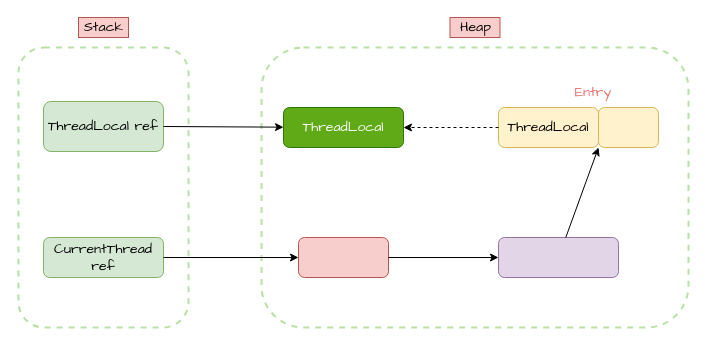
The diagram is 706 pixels wide and 346 high, and some of its shapes have lost their labels. The shapes that lost their labels are listed below. From the top down, each one's box as (x1, y1, x2, y2) in pixels, then its label:
(598, 106, 658, 148): value
(298, 236, 388, 278): Thread
(498, 236, 618, 278): ThreadLocalMap
